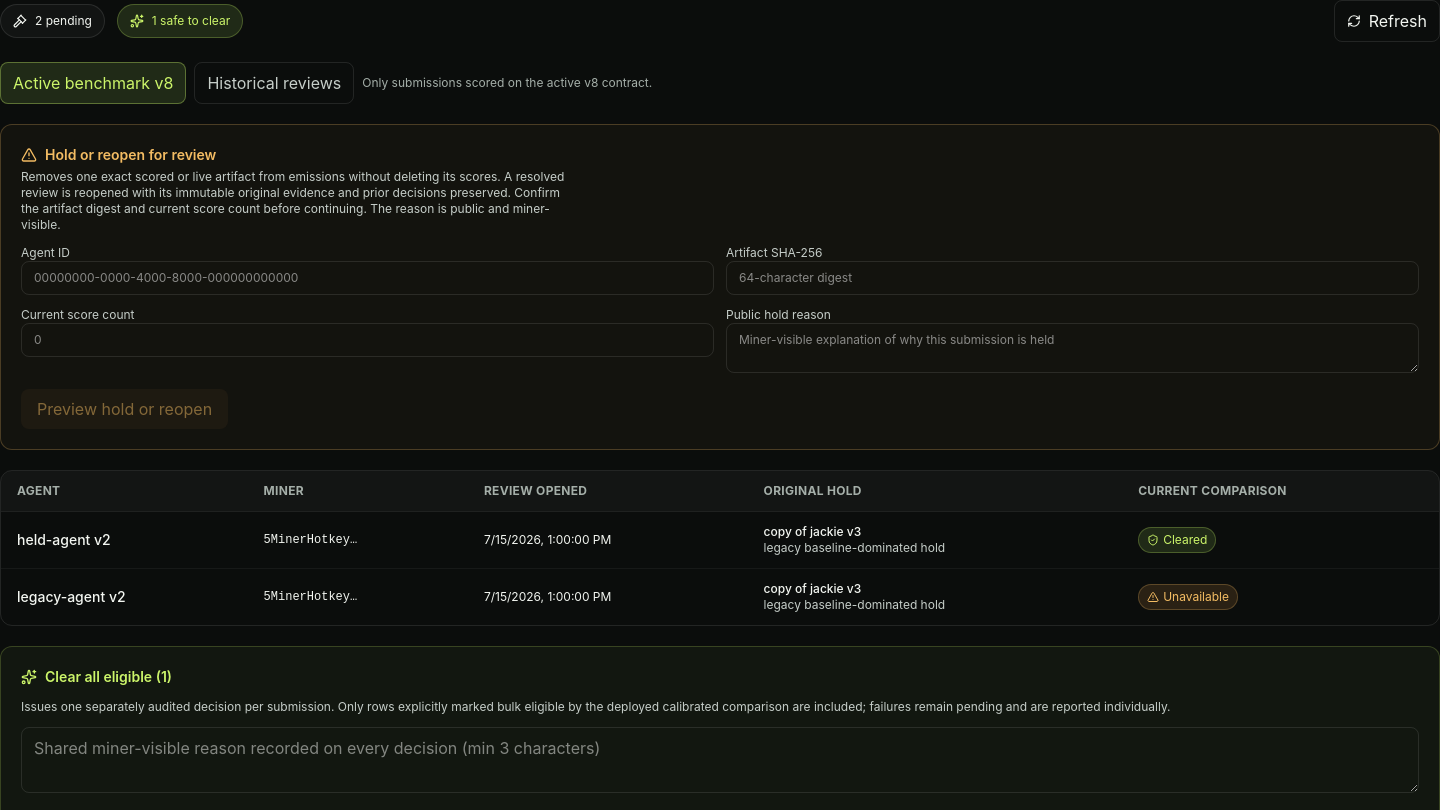
Test: CopyReviewPanel › separates immutable original evidence from current calibrated evidence
Expected: the text "2 pending" is shown, [0,4,105,38]
Expected: the text "1 safe to clear" is shown, [117,4,243,38]
Click the text "held-agent v2". click: {"x": 54, "y": 540}
box: [1,512,248,568]
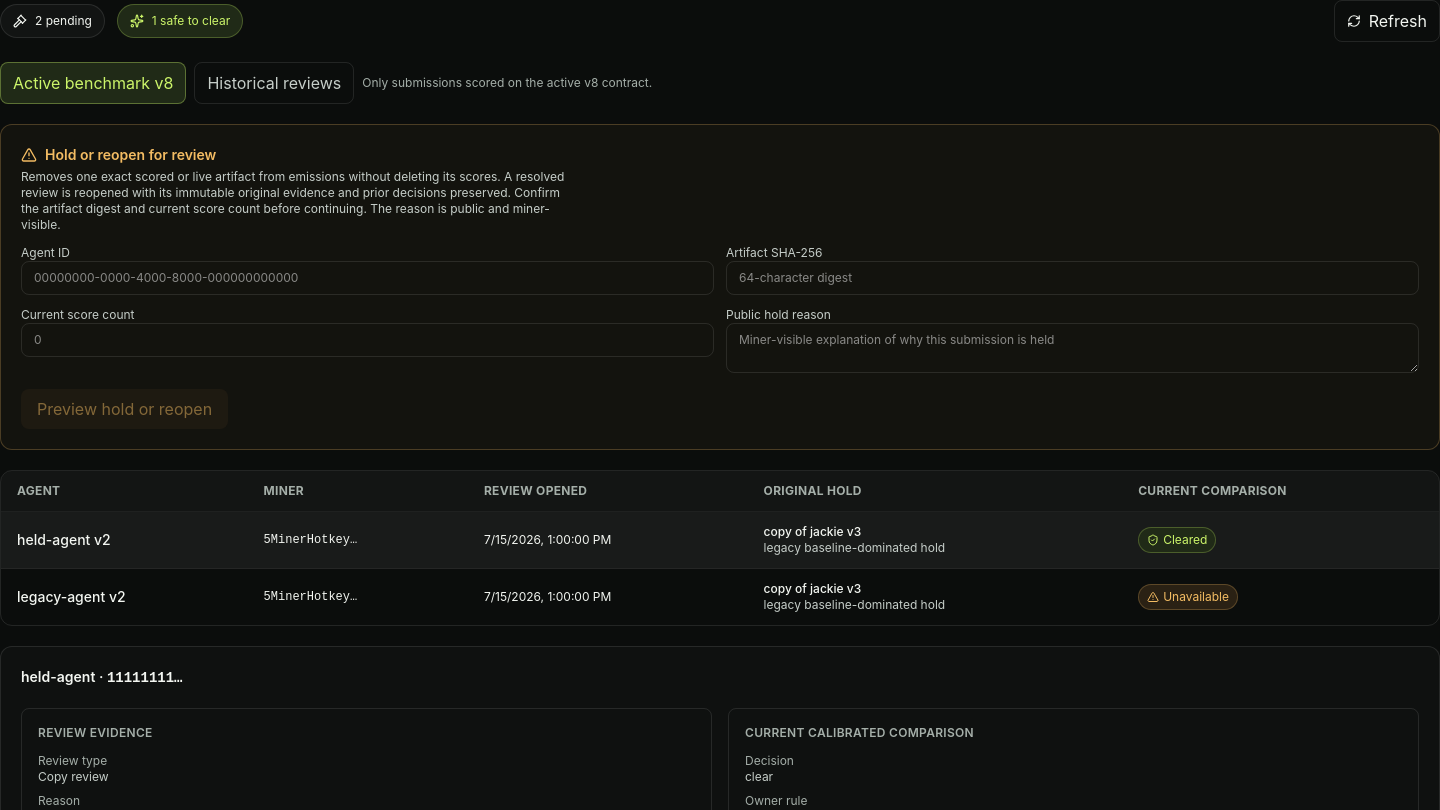
Now the heading "Review evidence" is shown, box [38,725,153,740]
Now the heading "Current calibrated comparison" is shown, box [745,725,974,740]
